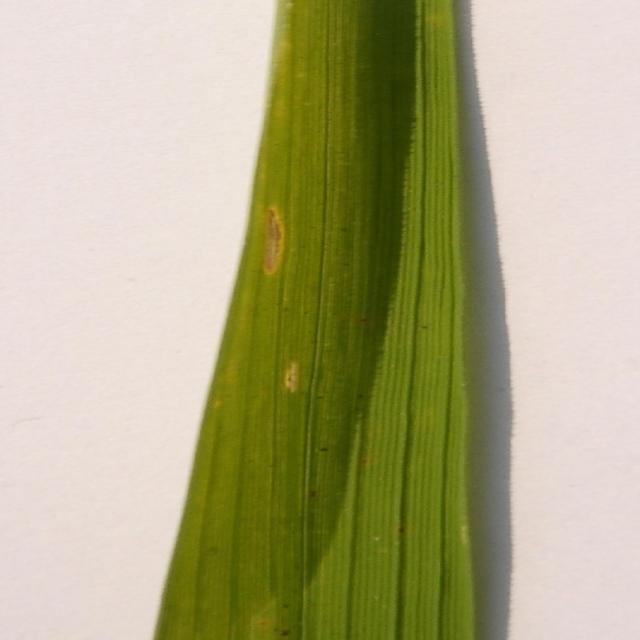Bacterial leaf blight: (125, 1, 544, 640)
